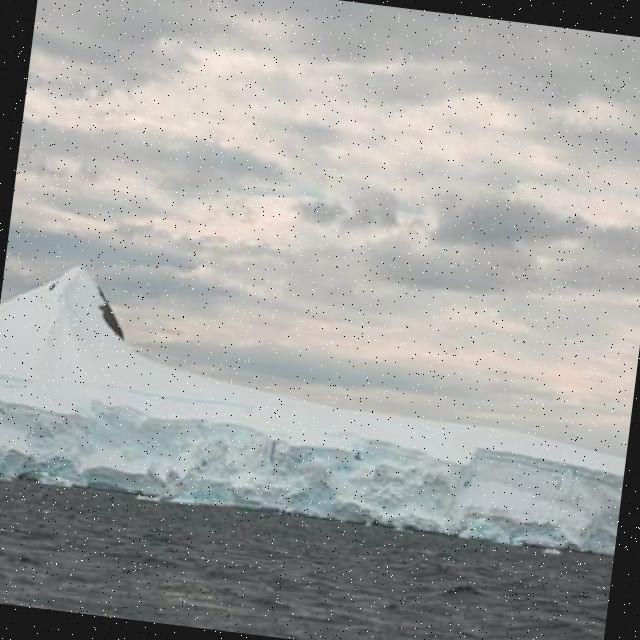Ns: (10, 1, 640, 306)
